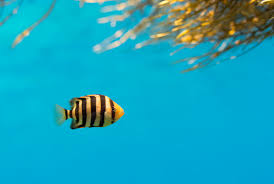azi: (54, 92, 127, 135)
